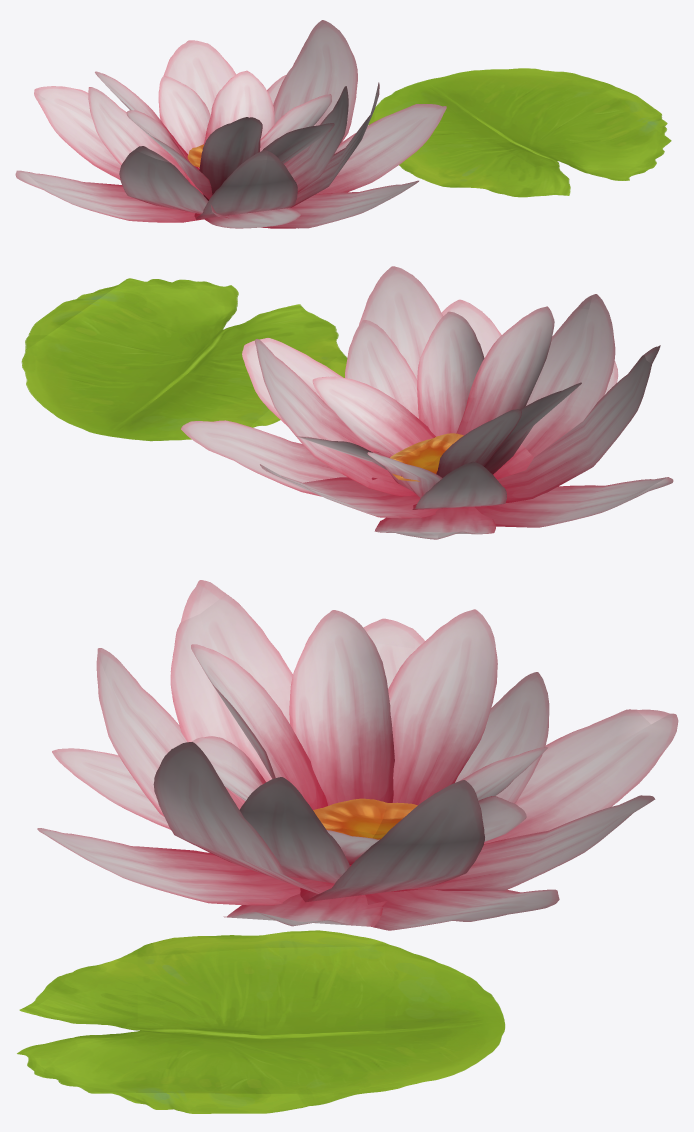
Rendered from Water Lily.fbx.
The picture shows the model from 3 angles, top to bottom: view 1: azimuth 30°, elevation 25°; view 2: azimuth 150°, elevation 25°; view 3: azimuth 270°, elevation 25°; orthographic projection. The views are drawn at different scales.
Parts seen in each view (by area): view 1: Plane051, Plane002; view 2: Plane051, Plane002; view 3: Plane051, Plane002.
Boxes of the visible parts, box(x1,y1,x2,y2) form: Plane051: box(15, 20, 446, 228); Plane002: box(368, 68, 671, 197); Plane051: box(181, 266, 673, 539); Plane002: box(21, 278, 347, 441); Plane051: box(37, 580, 678, 930); Plane002: box(17, 930, 505, 1113).
Size of the model in its own units: 27.61 by 6.82 by 17.24.
Materials: 2 (2 with a texture image).
